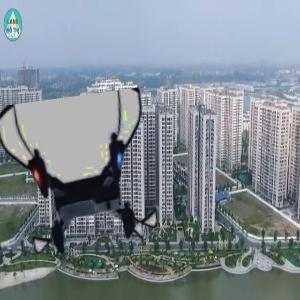drone: (2, 97, 164, 259)
